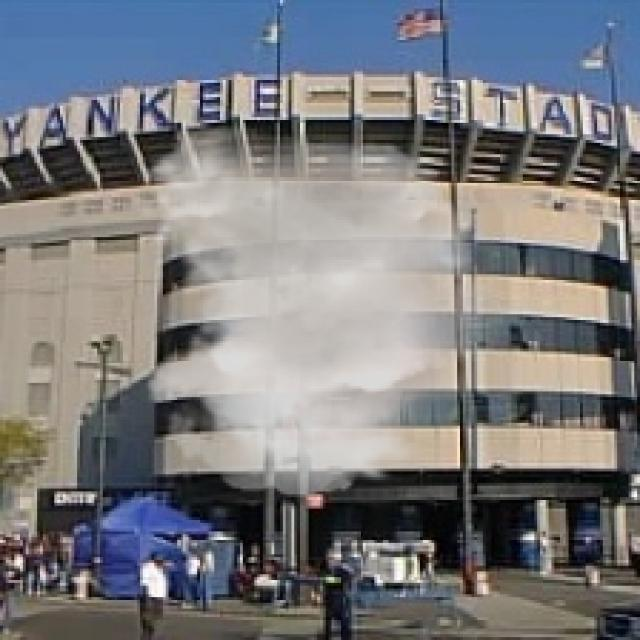smoke: (134, 123, 526, 497)
